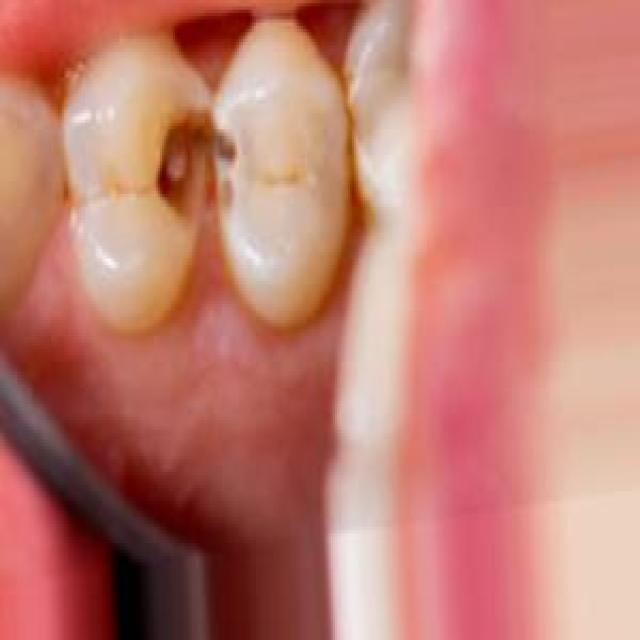caries: (114, 67, 274, 260)
